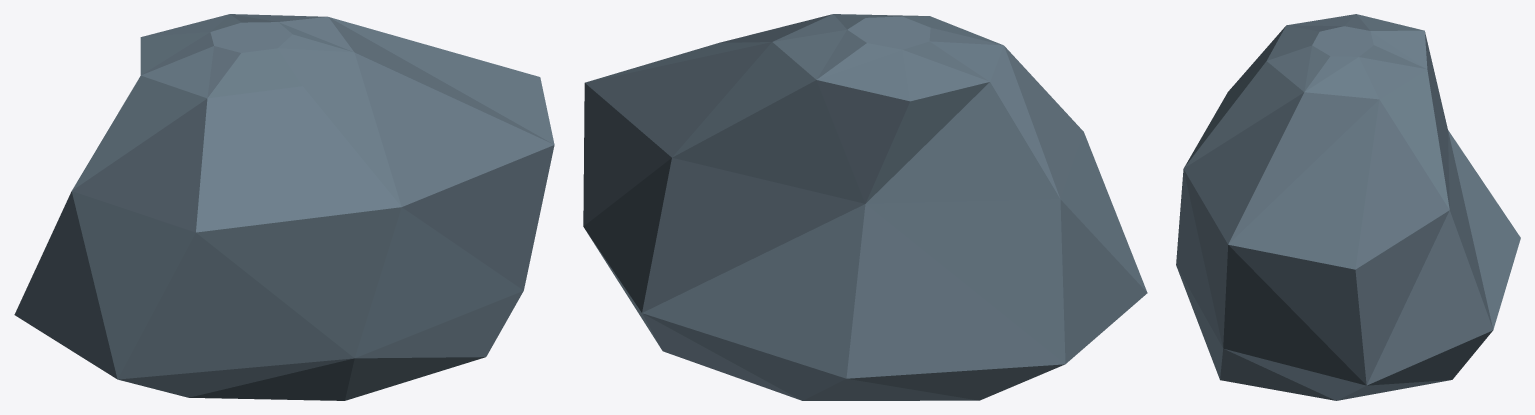
The model's file is N01_Rock_Boulder.fbx.
The picture shows the model from 3 angles, left to right: view 1: azimuth 30°, elevation 25°; view 2: azimuth 150°, elevation 25°; view 3: azimuth 270°, elevation 25°; orthographic projection. The views are drawn at different scales.
Parts seen in each view (by area): view 1: N01_Rock_Boulder; view 2: N01_Rock_Boulder; view 3: N01_Rock_Boulder.
Part boxes in pixels (bbox=[...]): N01_Rock_Boulder: bbox=[14, 14, 554, 400]; N01_Rock_Boulder: bbox=[583, 14, 1147, 400]; N01_Rock_Boulder: bbox=[1176, 14, 1520, 400].
Bounding box in the file's own units: 1.95 × 1.15 × 1.34.
1 material, 1 textured.
